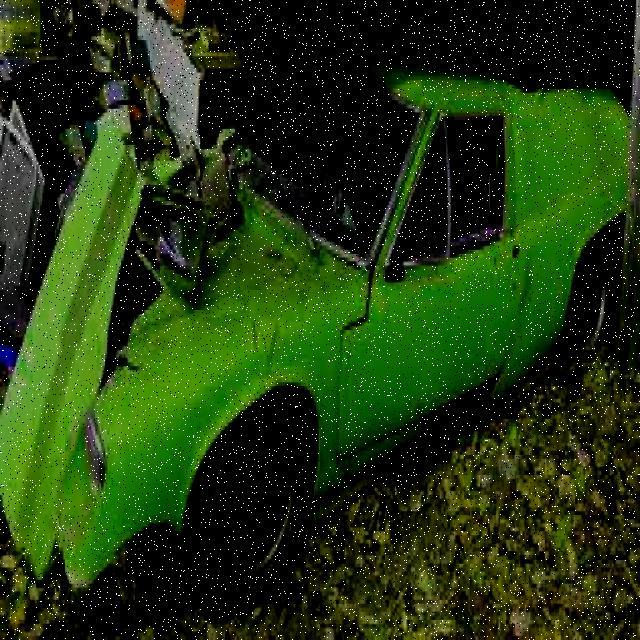car damage: (0, 0, 503, 29)
